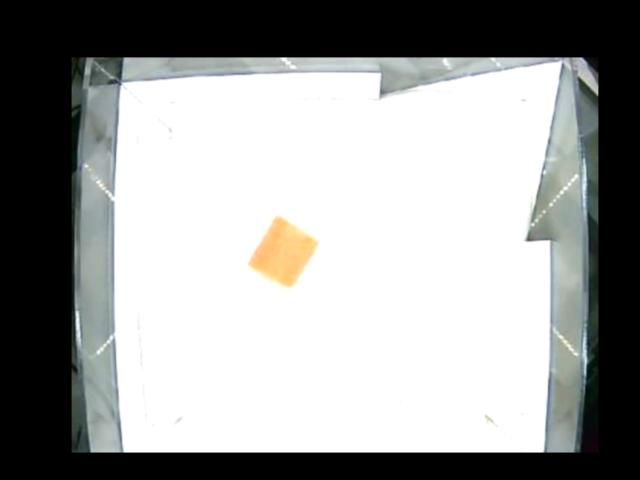Carrot: (251, 216, 316, 285)
